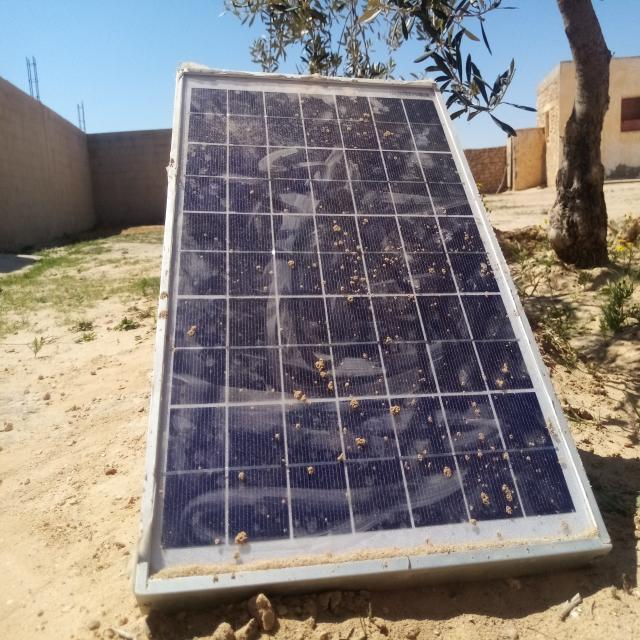faulty: (140, 68, 609, 589)
